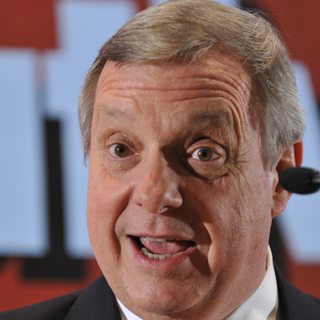eye: (181, 141, 227, 167), (103, 139, 141, 163)
